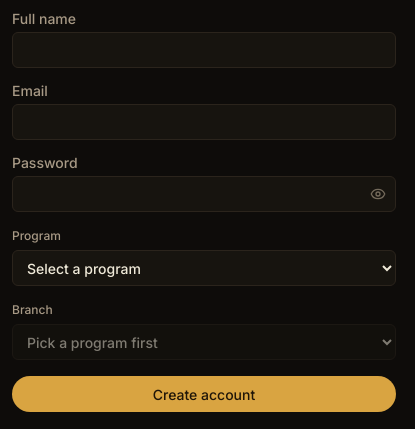
Test: RegisterForm › only offers branches once a program is chosen
Check: the dropdown labelled "Branch" is disabled, box [12, 324, 396, 360]
Select "B.Tech" in the dropdown labelled "Program" at (204, 268), box [12, 250, 396, 286]
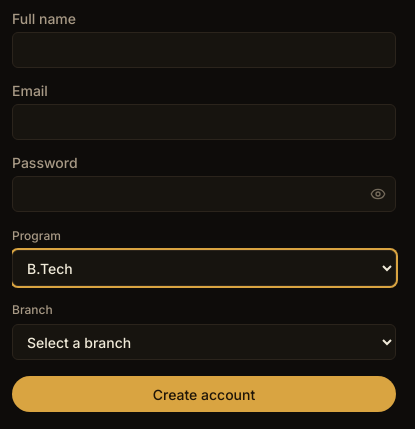
Check: the dropdown labelled "Branch" is enabled, box [12, 324, 396, 360]
